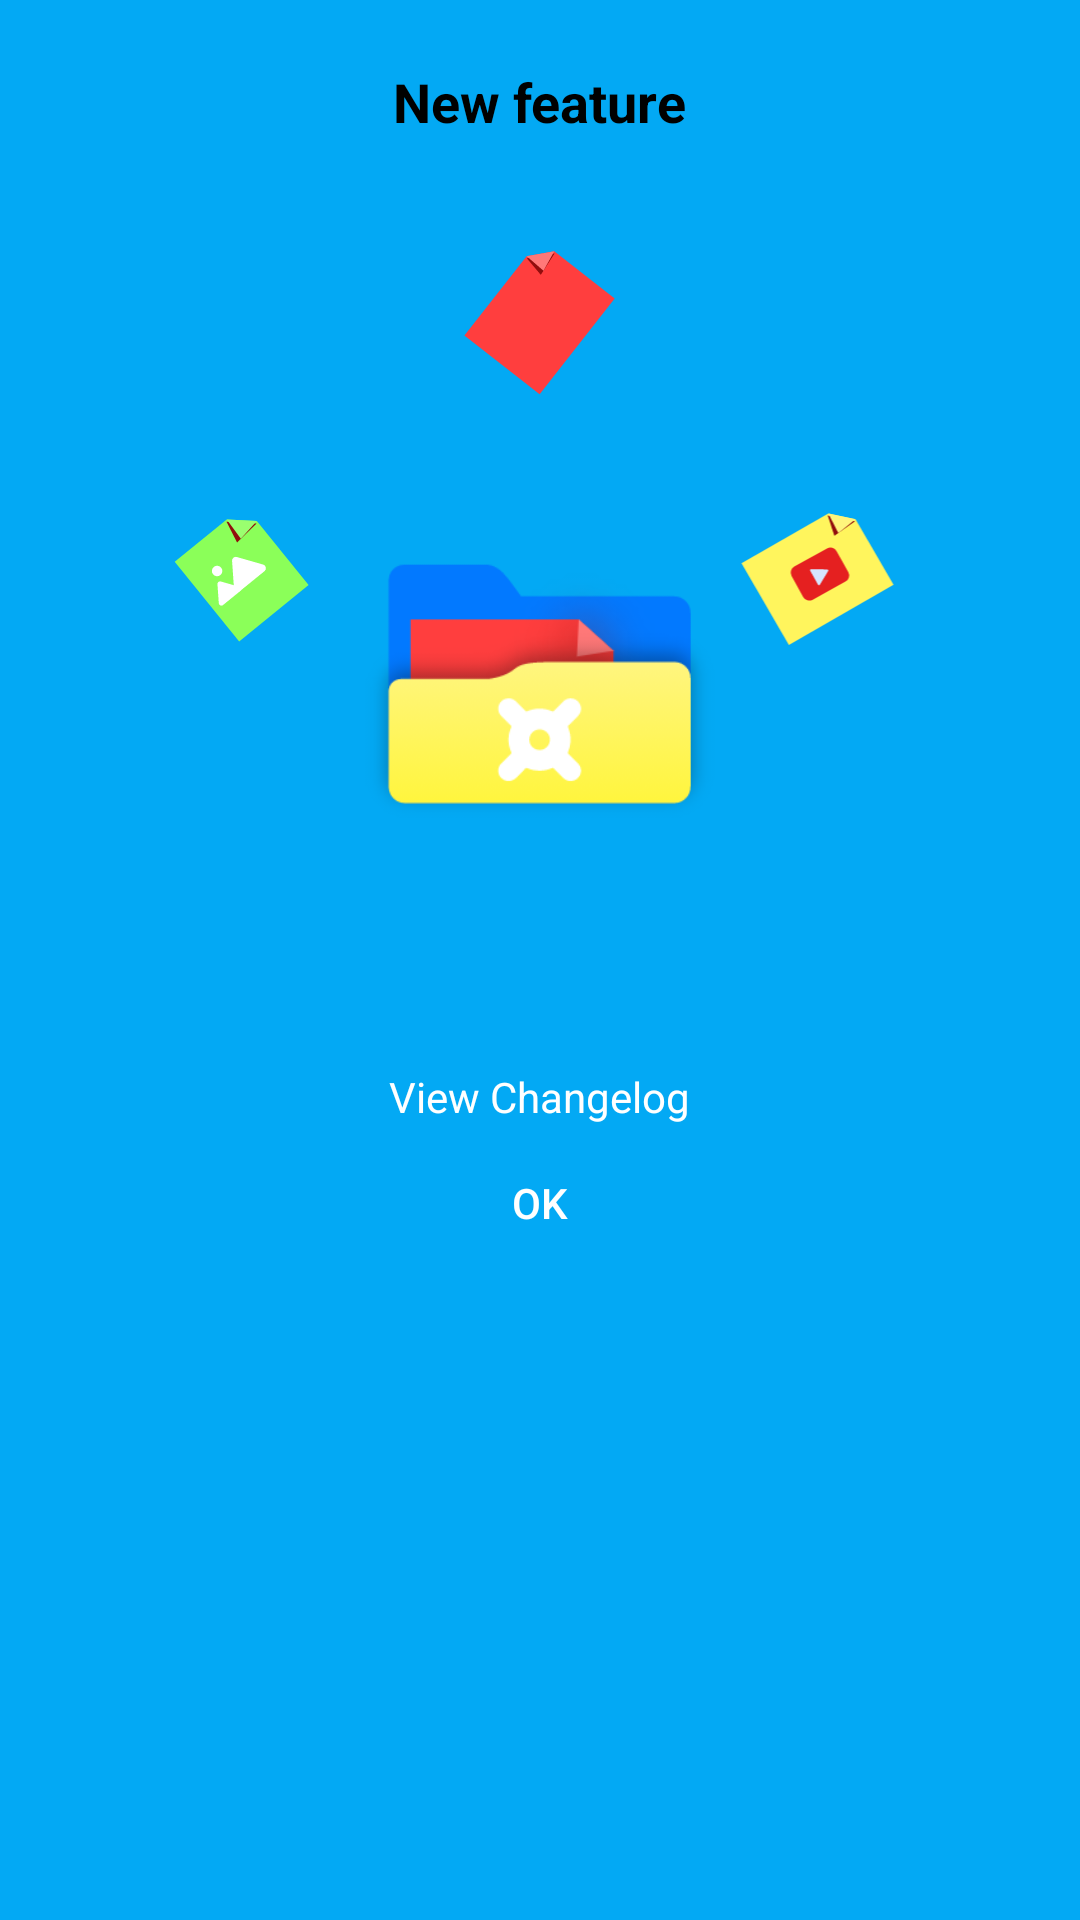

Icon click points for this 1080x1920 phone screenshot, format (x=x, y=y):
folder: (x=540, y=684)
